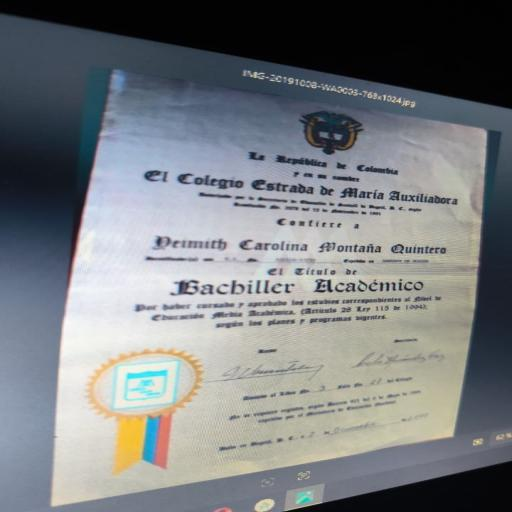bachillerato: (145, 271, 436, 305)
diploma: (47, 71, 484, 504)
escudo: (277, 103, 379, 165)
firma: (201, 344, 329, 391), (341, 339, 448, 379)
institucion: (116, 165, 467, 217)
nombre: (126, 228, 460, 257)
